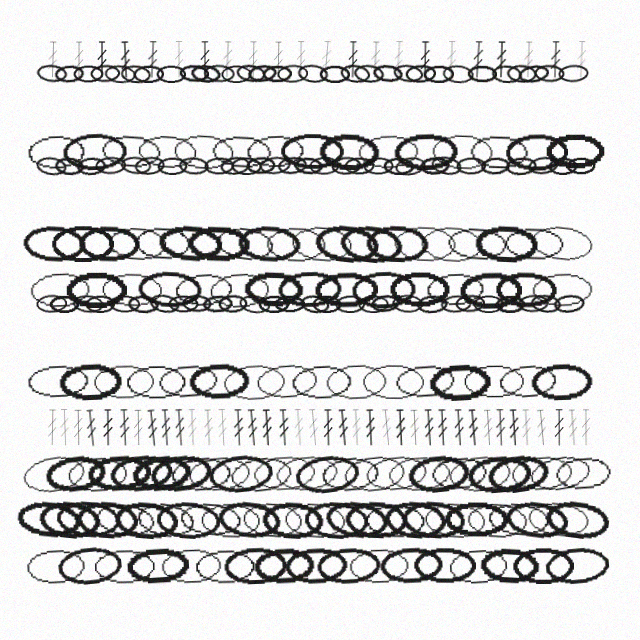chain: (526, 450, 595, 497), (19, 451, 88, 497), (543, 497, 611, 542), (293, 452, 362, 496), (148, 451, 215, 496), (485, 451, 552, 496), (323, 498, 391, 542), (133, 497, 199, 542), (338, 222, 405, 266), (227, 452, 294, 496), (91, 498, 158, 542), (216, 498, 283, 542), (503, 498, 570, 542), (528, 222, 596, 265), (446, 452, 514, 495), (212, 222, 278, 266), (43, 452, 109, 496), (313, 222, 380, 265), (207, 452, 274, 495), (273, 452, 340, 495), (15, 498, 82, 541), (56, 544, 123, 587), (108, 452, 174, 495), (341, 452, 407, 495), (363, 452, 429, 495), (406, 452, 472, 495), (37, 498, 103, 541), (525, 498, 591, 541), (186, 453, 253, 495), (318, 452, 383, 495), (466, 453, 532, 495), (113, 499, 179, 541), (544, 545, 610, 587), (130, 452, 194, 495), (171, 131, 237, 172), (157, 223, 223, 264), (289, 223, 355, 264), (86, 453, 152, 494), (251, 453, 317, 494), (55, 499, 121, 540), (177, 499, 243, 540), (401, 499, 467, 540), (485, 499, 551, 540), (221, 362, 288, 402), (98, 131, 163, 172), (155, 361, 220, 402), (254, 361, 319, 402), (392, 361, 457, 402), (168, 453, 233, 494), (509, 453, 574, 494), (419, 224, 485, 264), (386, 454, 452, 494), (155, 500, 221, 540), (303, 500, 369, 540), (316, 546, 382, 586), (496, 361, 560, 402), (75, 499, 139, 540), (240, 499, 304, 540), (383, 499, 447, 540), (135, 132, 200, 172), (22, 224, 87, 264), (105, 224, 170, 264), (237, 224, 302, 264), (444, 224, 509, 264), (282, 500, 347, 540), (422, 500, 487, 540), (465, 500, 530, 540), (125, 546, 190, 586), (284, 546, 349, 586), (446, 546, 511, 586), (428, 453, 491, 494), (552, 453, 615, 494), (137, 270, 203, 309), (277, 270, 343, 309), (351, 270, 417, 309), (209, 132, 273, 172), (172, 270, 236, 310), (207, 270, 271, 310), (65, 454, 129, 494), (261, 500, 325, 540), (24, 546, 88, 586), (62, 132, 127, 171), (393, 132, 458, 171), (365, 224, 430, 263), (392, 224, 457, 263), (25, 362, 90, 401), (324, 362, 389, 401), (344, 500, 409, 539), (159, 546, 224, 585), (428, 362, 491, 402), (253, 546, 316, 586), (430, 132, 494, 171), (474, 224, 538, 263), (58, 362, 122, 401), (289, 362, 353, 401), (530, 362, 594, 401), (223, 546, 287, 585), (379, 546, 443, 585), (479, 546, 541, 586), (356, 133, 421, 171), (530, 271, 595, 309), (25, 132, 88, 171), (244, 132, 307, 171), (318, 132, 381, 171), (467, 132, 530, 171), (28, 270, 91, 309), (424, 270, 487, 309), (188, 362, 251, 401), (347, 546, 410, 585), (186, 225, 250, 263), (314, 271, 378, 309), (92, 547, 156, 585), (132, 224, 194, 263), (243, 270, 305, 309), (280, 133, 345, 170), (505, 133, 568, 171), (78, 225, 141, 263), (264, 225, 327, 263), (502, 225, 565, 263), (100, 271, 163, 309), (459, 271, 522, 309), (495, 271, 558, 309), (92, 363, 155, 401), (363, 501, 426, 539), (193, 547, 256, 585), (361, 363, 425, 400), (444, 501, 508, 538), (199, 501, 261, 539), (51, 225, 114, 262), (124, 363, 187, 400), (462, 363, 525, 400), (413, 547, 476, 584), (65, 271, 127, 308), (389, 271, 451, 308), (512, 547, 574, 584), (545, 133, 606, 170), (430, 154, 463, 177), (148, 292, 181, 315), (517, 63, 550, 85), (35, 155, 68, 177), (394, 155, 427, 177), (238, 293, 271, 315), (299, 293, 331, 315), (527, 155, 560, 176), (36, 63, 68, 84), (235, 63, 267, 84), (297, 63, 329, 84), (339, 63, 371, 84), (353, 63, 385, 84), (392, 63, 424, 84), (120, 155, 152, 176), (219, 155, 251, 176), (259, 155, 291, 176), (530, 293, 562, 314), (553, 293, 585, 314), (190, 63, 221, 84), (247, 63, 278, 84), (372, 63, 403, 84), (134, 155, 165, 176), (277, 155, 308, 176), (370, 293, 401, 314), (104, 64, 136, 84), (442, 64, 474, 84), (491, 64, 523, 84), (505, 156, 537, 176), (72, 294, 104, 314), (127, 294, 159, 314), (416, 294, 448, 314), (440, 294, 472, 314), (54, 64, 85, 84), (120, 64, 151, 84), (54, 156, 85, 176), (76, 156, 107, 176), (178, 156, 209, 176), (293, 156, 324, 176), (480, 156, 511, 176), (202, 294, 233, 314), (203, 64, 235, 83), (517, 294, 549, 313), (277, 64, 308, 83), (405, 64, 436, 83), (506, 64, 537, 83), (534, 64, 565, 83), (558, 64, 589, 83), (95, 156, 126, 175), (309, 156, 340, 175), (419, 156, 450, 175), (36, 294, 67, 313), (392, 294, 423, 313), (90, 64, 120, 83), (179, 64, 209, 83), (246, 156, 276, 175), (331, 156, 361, 175), (182, 294, 212, 313), (218, 294, 248, 313), (455, 294, 485, 313), (73, 65, 104, 83), (133, 65, 164, 83), (221, 65, 252, 83), (319, 65, 350, 83), (423, 65, 454, 83), (157, 157, 188, 175), (231, 157, 262, 175), (344, 157, 375, 175), (363, 157, 394, 175), (383, 157, 414, 175), (109, 295, 140, 313), (168, 295, 199, 313), (258, 295, 289, 313), (274, 295, 305, 313), (358, 295, 389, 313), (473, 295, 504, 313), (156, 65, 186, 83), (262, 65, 292, 83), (467, 65, 497, 83), (204, 157, 234, 175), (456, 157, 486, 175), (548, 157, 578, 175), (566, 157, 596, 175), (49, 295, 79, 313), (85, 295, 115, 313), (312, 295, 342, 313), (335, 295, 365, 313), (495, 295, 525, 313)
treble: (84, 409, 99, 447), (145, 409, 160, 447), (245, 409, 260, 446), (306, 409, 321, 446), (336, 409, 351, 446), (379, 409, 394, 446), (466, 409, 481, 446), (534, 409, 549, 446), (319, 41, 333, 78), (471, 41, 485, 78), (159, 409, 173, 446), (173, 409, 187, 446), (260, 409, 274, 446), (277, 409, 291, 446), (292, 409, 306, 446), (422, 409, 436, 446), (452, 409, 466, 446), (481, 409, 495, 446), (507, 409, 521, 446), (566, 409, 580, 446), (46, 41, 59, 78), (119, 41, 132, 78), (146, 41, 159, 78), (221, 41, 234, 78), (369, 41, 382, 78), (392, 41, 405, 78), (445, 41, 458, 78), (495, 41, 508, 78), (522, 41, 535, 78), (549, 41, 562, 78), (575, 41, 588, 78), (58, 409, 71, 446), (118, 409, 131, 446), (186, 409, 199, 446), (202, 409, 215, 446), (216, 409, 229, 446), (232, 409, 245, 446), (350, 409, 363, 446), (364, 409, 377, 446), (394, 409, 407, 446), (408, 409, 421, 446), (436, 409, 449, 446), (494, 409, 507, 446), (520, 409, 533, 446), (73, 41, 85, 78), (96, 41, 108, 78), (173, 41, 185, 78), (199, 41, 211, 78), (247, 41, 259, 78), (272, 41, 284, 78), (295, 41, 307, 78), (347, 41, 359, 78), (419, 41, 431, 78), (46, 409, 58, 446), (72, 409, 84, 446), (102, 409, 114, 446), (132, 409, 144, 446), (322, 409, 334, 446), (553, 409, 565, 446), (580, 409, 592, 446)
